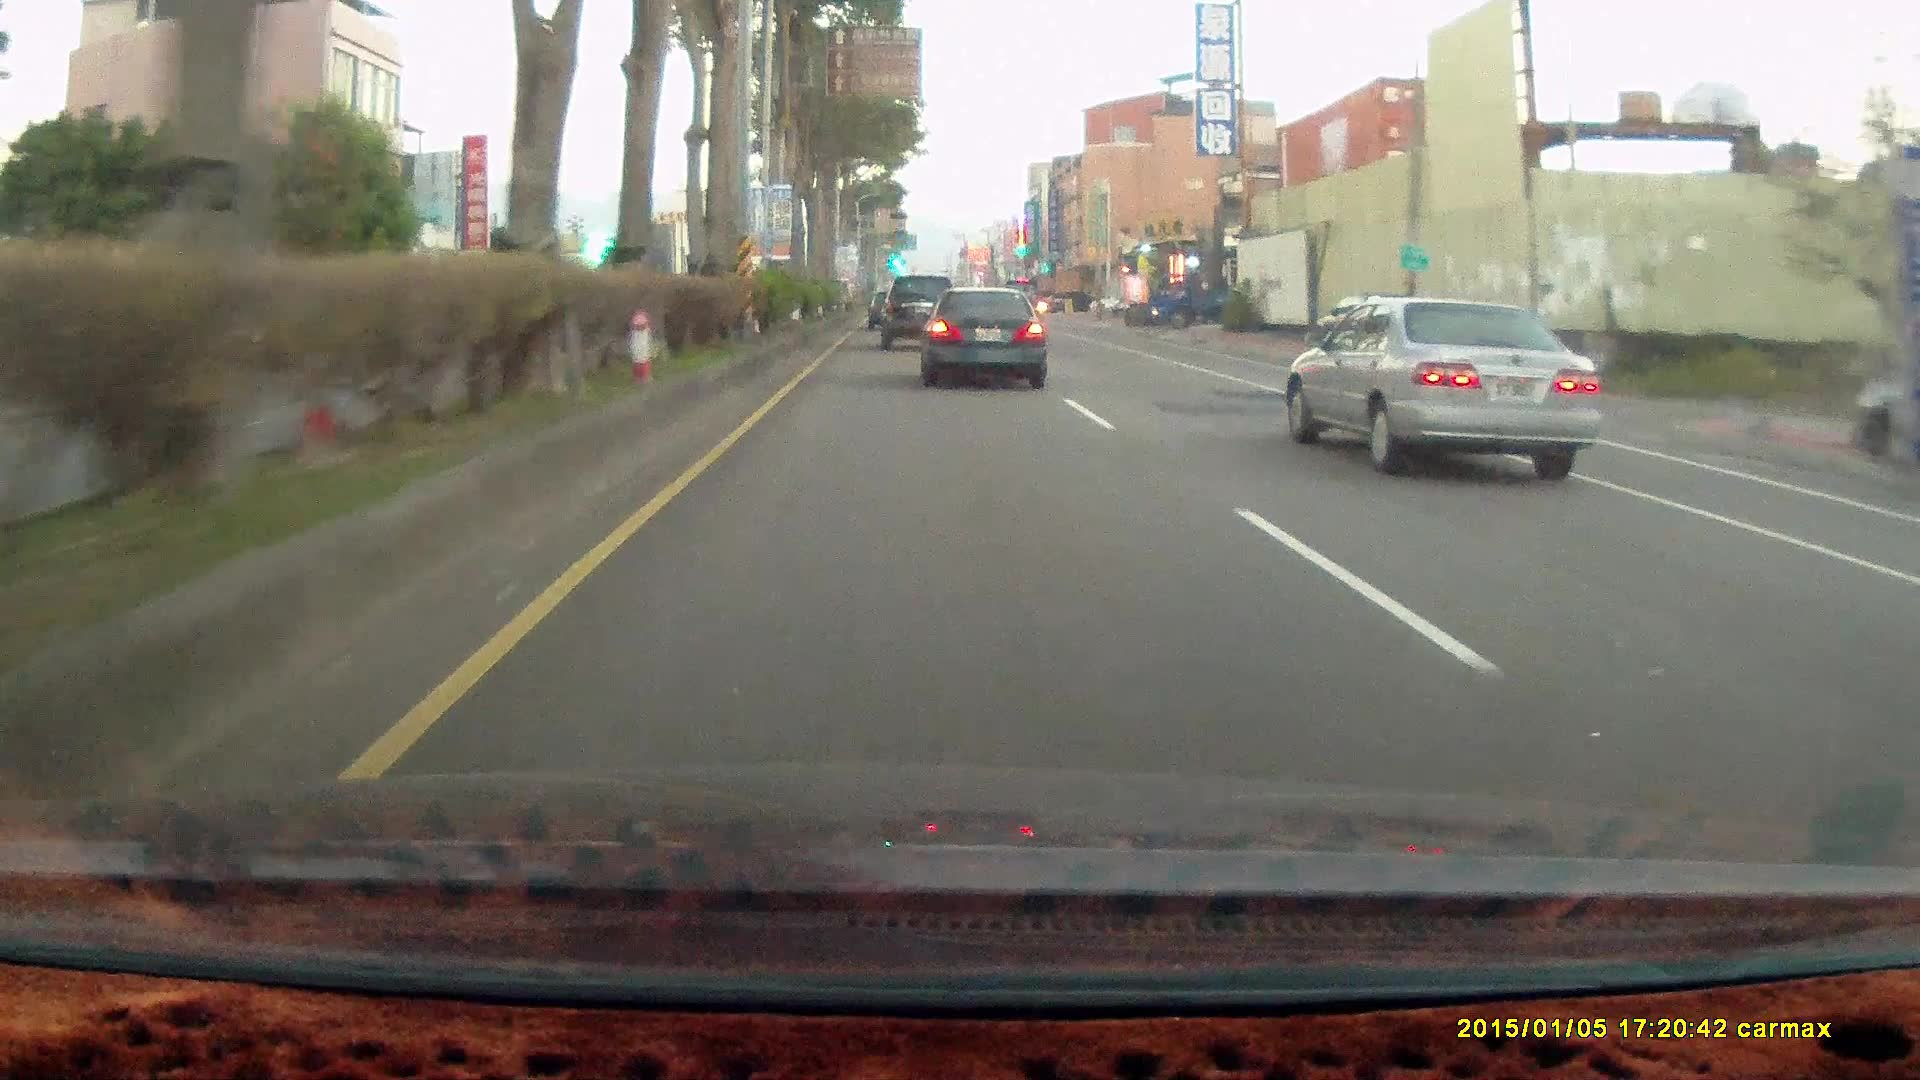vehicle: (1284, 293, 1611, 475), (1284, 294, 1602, 477), (915, 284, 1046, 388), (924, 286, 1054, 389), (880, 273, 960, 347), (880, 274, 960, 348), (1146, 268, 1236, 334), (1146, 269, 1237, 330), (1050, 289, 1092, 310)
